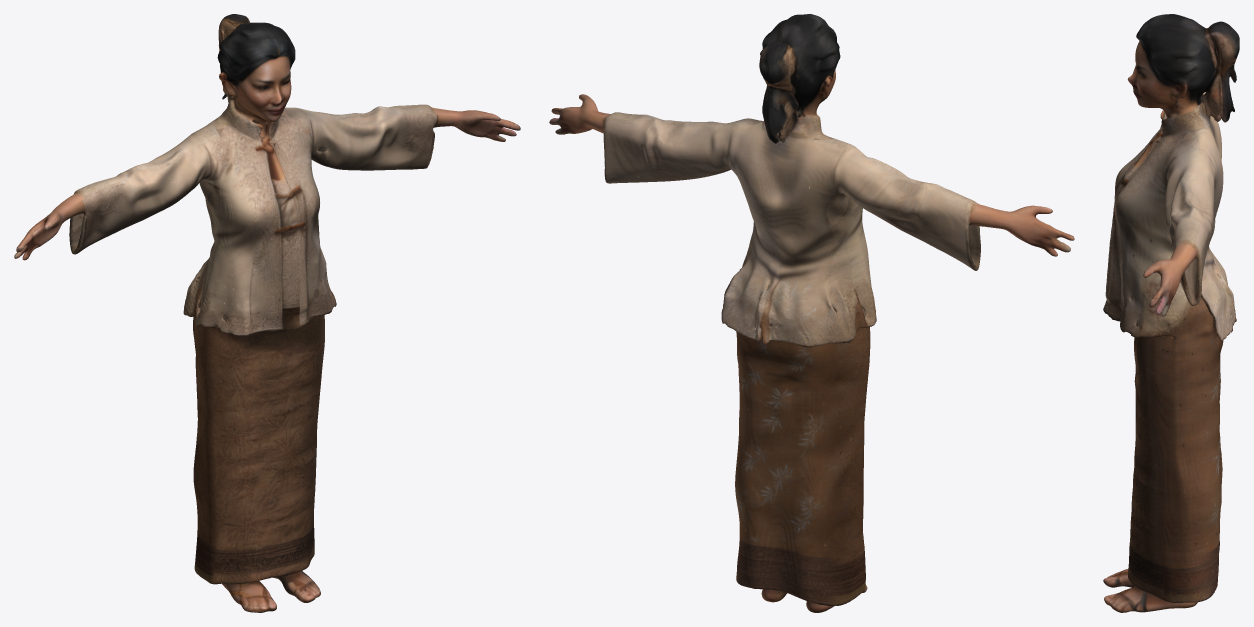
Rendered from A_3D_model_of_an_Indo_0825043723_texture.fbx.
3 renders of one model, left to right at view 1: azimuth 30°, elevation 25°; view 2: azimuth 150°, elevation 25°; view 3: azimuth 270°, elevation 25°, orthographic. The views are drawn at different scales.
Visible parts, largest first — view 1: Mesh1.0; view 2: Mesh1.0; view 3: Mesh1.0.
Boxes of the visible parts, x1=… form: Mesh1.0: x1=14, y1=14, x2=520, y2=612; Mesh1.0: x1=549, y1=14, x2=1074, y2=612; Mesh1.0: x1=1103, y1=14, x2=1239, y2=612.
Size of the model in its own units: 188 by 200 by 42.84.
1 material, 1 textured.
